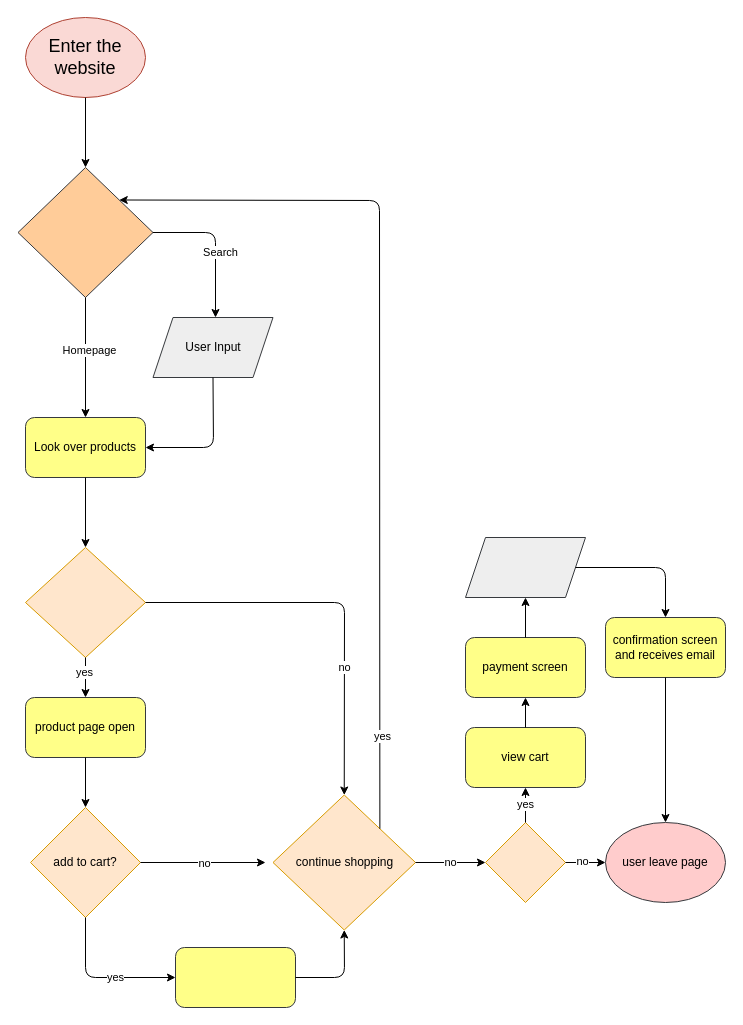
Image size: 743x1025. Some labels were removed from this diagram. Here are the shapes that lost their labels. From the top down, the centre of each, then its label:
At point (85, 232): "Search for product or explore home page".
At point (525, 567): "user enter payment info".
At point (85, 602): "View a specific product".
At point (525, 862): "checkout?".
At point (235, 977): "add to cart confirm".
